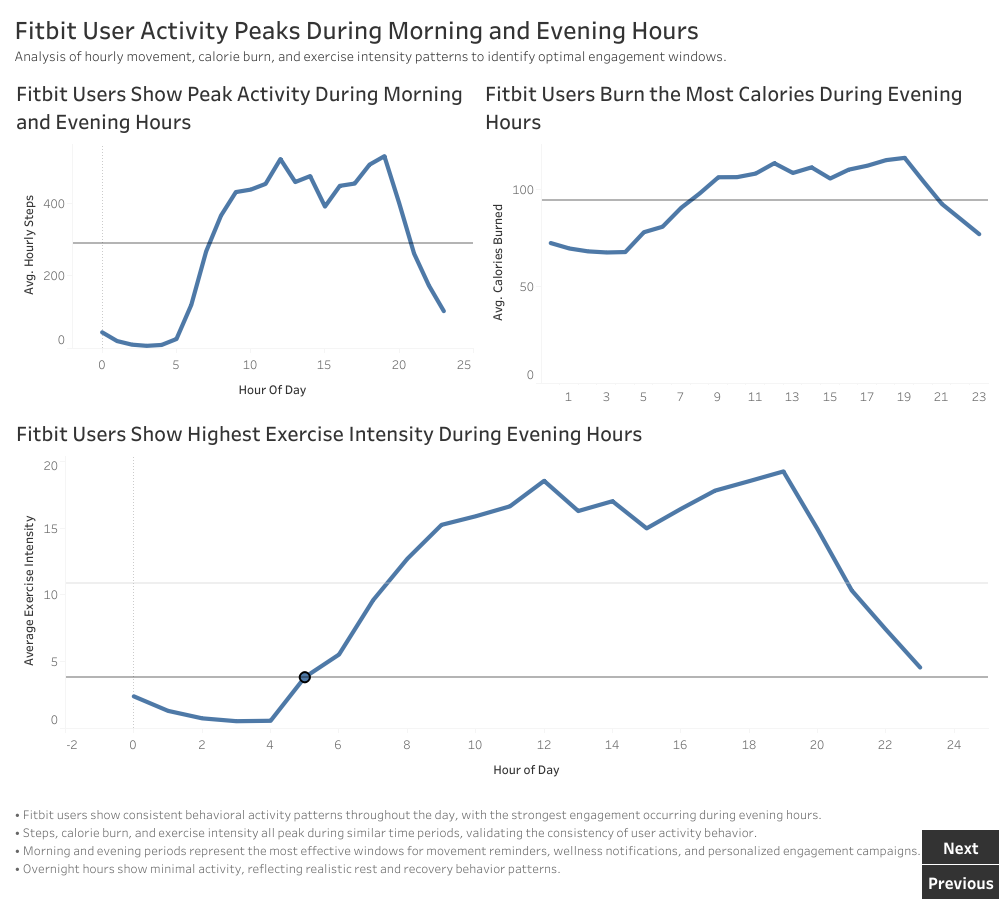

The dashboard page shown, as its layout file describes it:
{"tool":"tableau","page":{"name":"Dashboard 2 - Behavioural Timing Patterns","canvas":[1000,900],"ordinal":1},"visuals":[{"type":"title","box":[8,8,984,59]},{"type":"worksheet","title":"Hourly Activity Trend","mark":"Line","rows":["step_total"],"cols":["Calculation_0014093916696646"],"box":[8,67,469,342]},{"type":"worksheet","title":"Hourly Calories Burn Trend","mark":"Line","rows":["calories"],"cols":["Calculation_0014093927809100"],"box":[477,67,515,342]},{"type":"worksheet","title":"Hourly Intensity Trends","mark":"Line","rows":["total_intensity"],"cols":["Calculation_0014093929877581"],"box":[8,409,984,380]},{"type":"text","box":[8,789,984,103]},{"type":"dashboard-object","box":[922,830,78,34]},{"type":"dashboard-object","box":[922,865,78,34]}]}

Visuals, with their boxes in screenshot pixels (x1, y1, x2, y2), scaled from the page's 1000x900 canvas onto the 999x899 screenshot:
title: BBox(8, 8, 991, 67)
"Hourly Activity Trend" worksheet (Line marks): BBox(8, 67, 477, 409)
"Hourly Calories Burn Trend" worksheet (Line marks): BBox(477, 67, 991, 409)
"Hourly Intensity Trends" worksheet (Line marks): BBox(8, 409, 991, 788)
text: BBox(8, 788, 991, 891)
dashboard-object: BBox(921, 829, 998, 863)
dashboard-object: BBox(921, 864, 998, 898)
